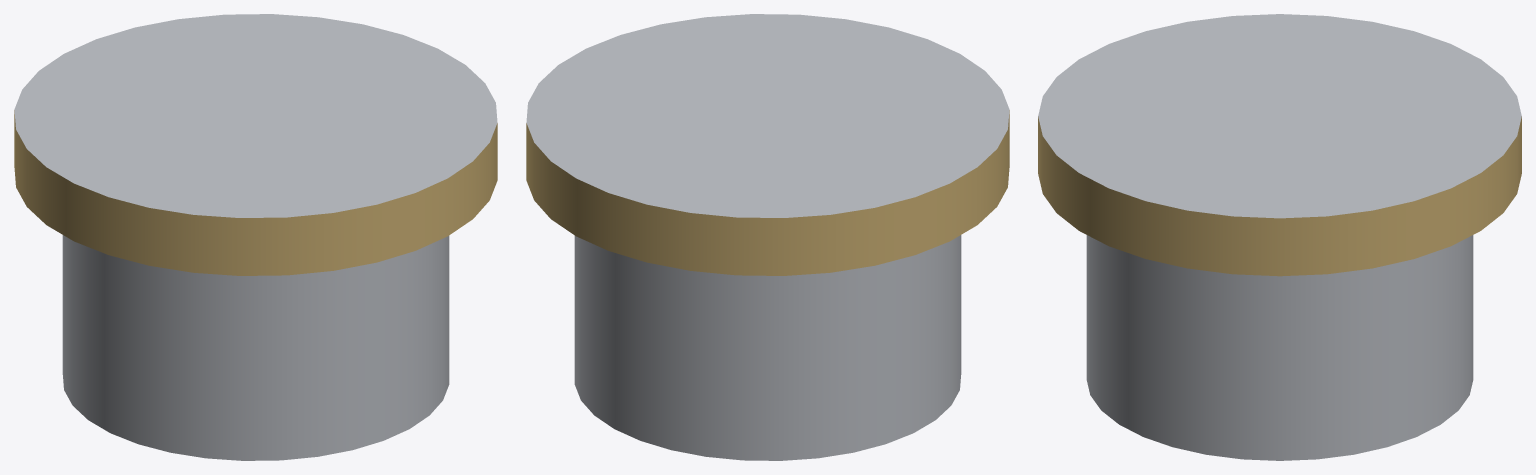
3 views of the same model, side by side, from view 1: azimuth 30°, elevation 25°; view 2: azimuth 150°, elevation 25°; view 3: azimuth 270°, elevation 25° (orthographic).
Parts seen in each view (by area): view 1: ratchet_0-90; view 2: ratchet_0-90; view 3: ratchet_0-90.
Boxes of the visible parts, x1,y1,x2,y2 form: ratchet_0-90: [14, 14, 497, 460]; ratchet_0-90: [526, 14, 1009, 460]; ratchet_0-90: [1038, 14, 1521, 460].
Bounding box in the file's own units: 15 × 9 × 15.
